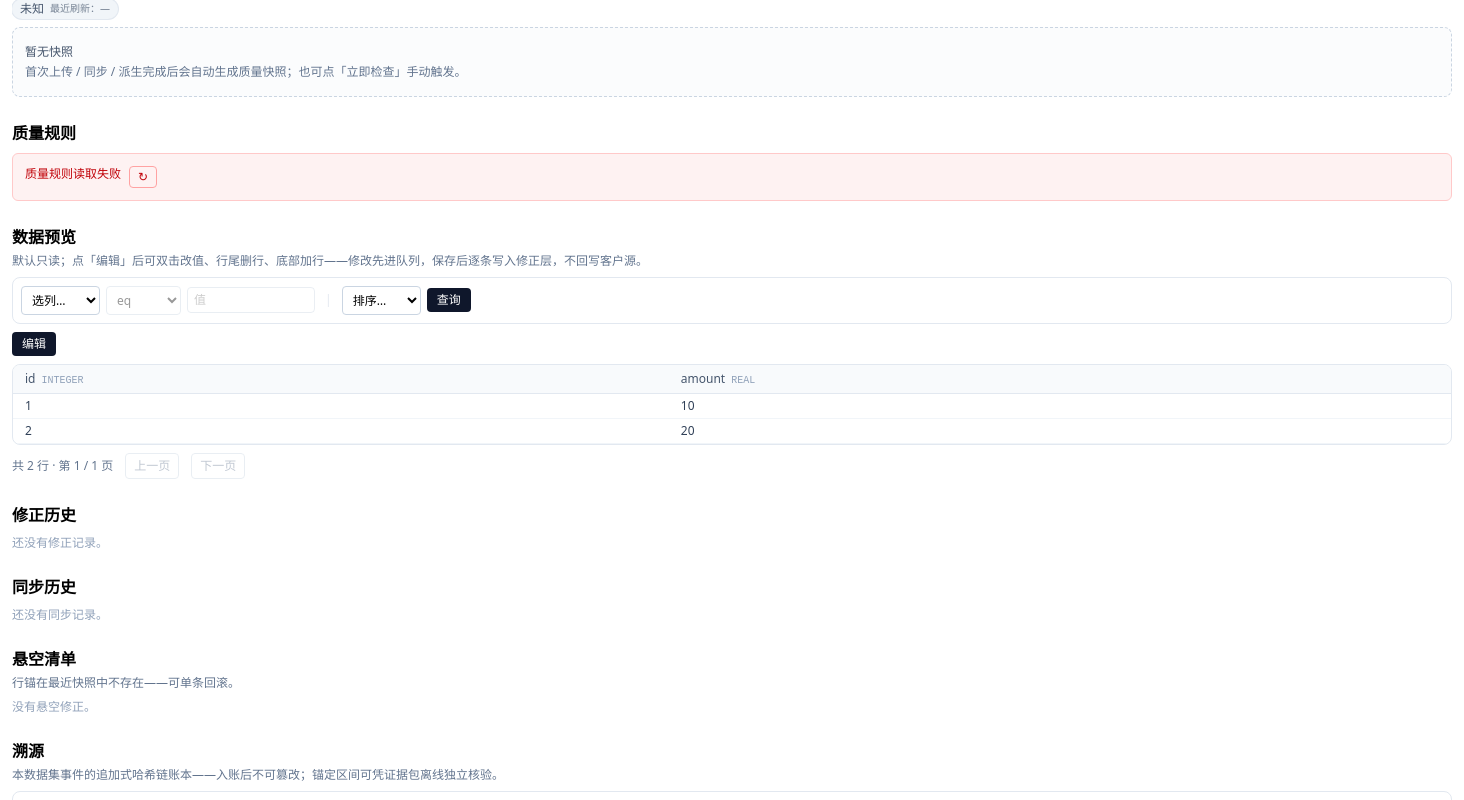
Scenario: DatasetDetail 行内编辑器：模式切换与只读默认（任务 2.1） › 默认只读：无删行/加行/脏徽标控件，双击不开编辑框；切换进编辑后控件出现
The image size is (1464, 800).
(page scrolled)
Check: the table with test id "preview-grid" is shown, box [13, 364, 1451, 444]
Check: the button with test id "preview-edit-toggle" reads "编辑", box [12, 332, 56, 356]
Double-click the cell with test id "preview-cell" showing "10" at (1060, 406), box [669, 393, 1451, 418]
// 切换进编辑：删行/加行出现，双击可开编辑框（Esc 取消）
Click the button with test id "preview-edit-toggle" at (34, 344), box [12, 332, 56, 356]
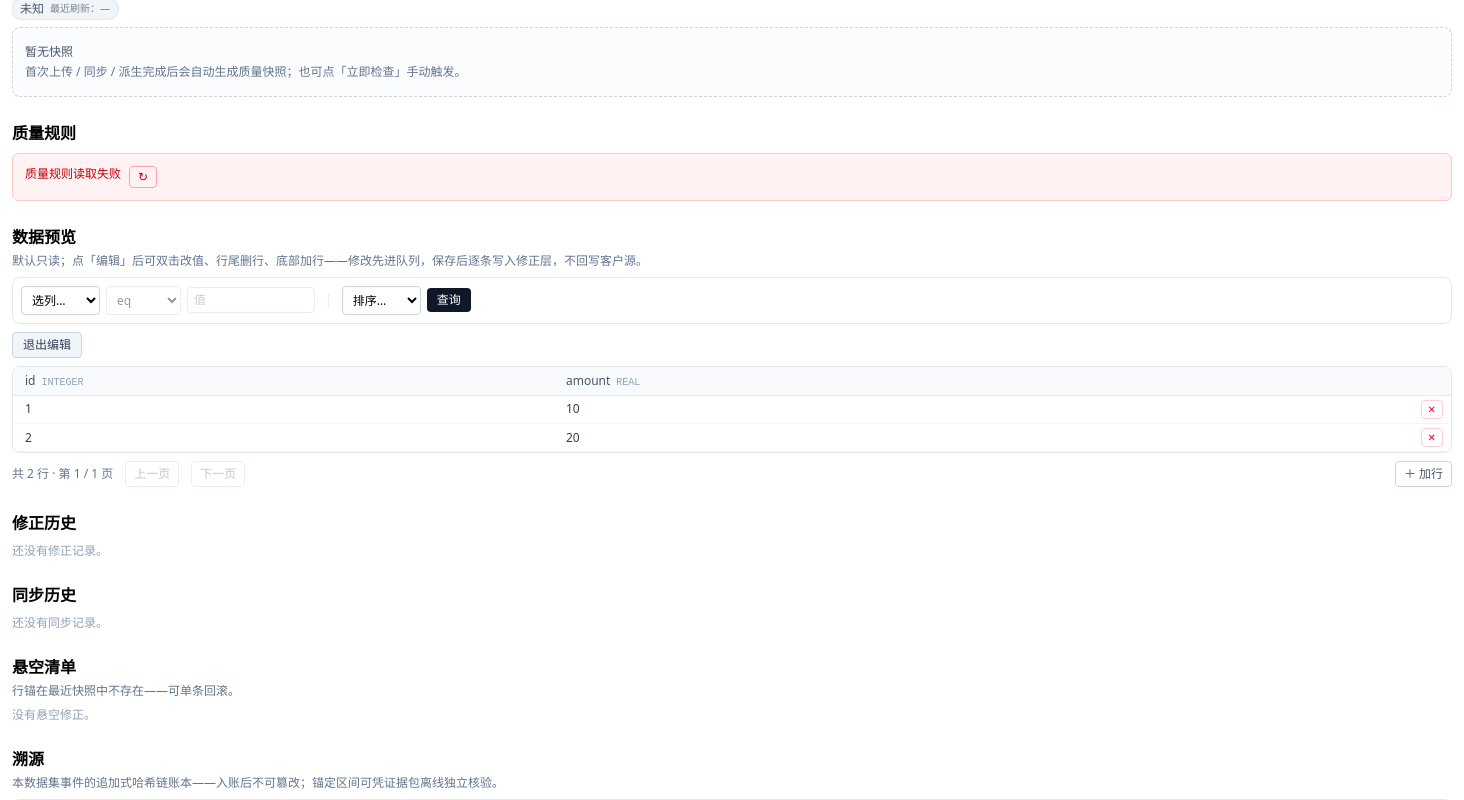
Check: the number of buttons with test id "preview-delete-row" is 2, box [1421, 400, 1443, 419]; [1421, 428, 1443, 448]
Check: the button with test id "preview-add-row" is shown, box [1395, 462, 1452, 488]
Double-click the cell with test id "preview-cell" showing "10" at (877, 409), box [554, 395, 1199, 424]
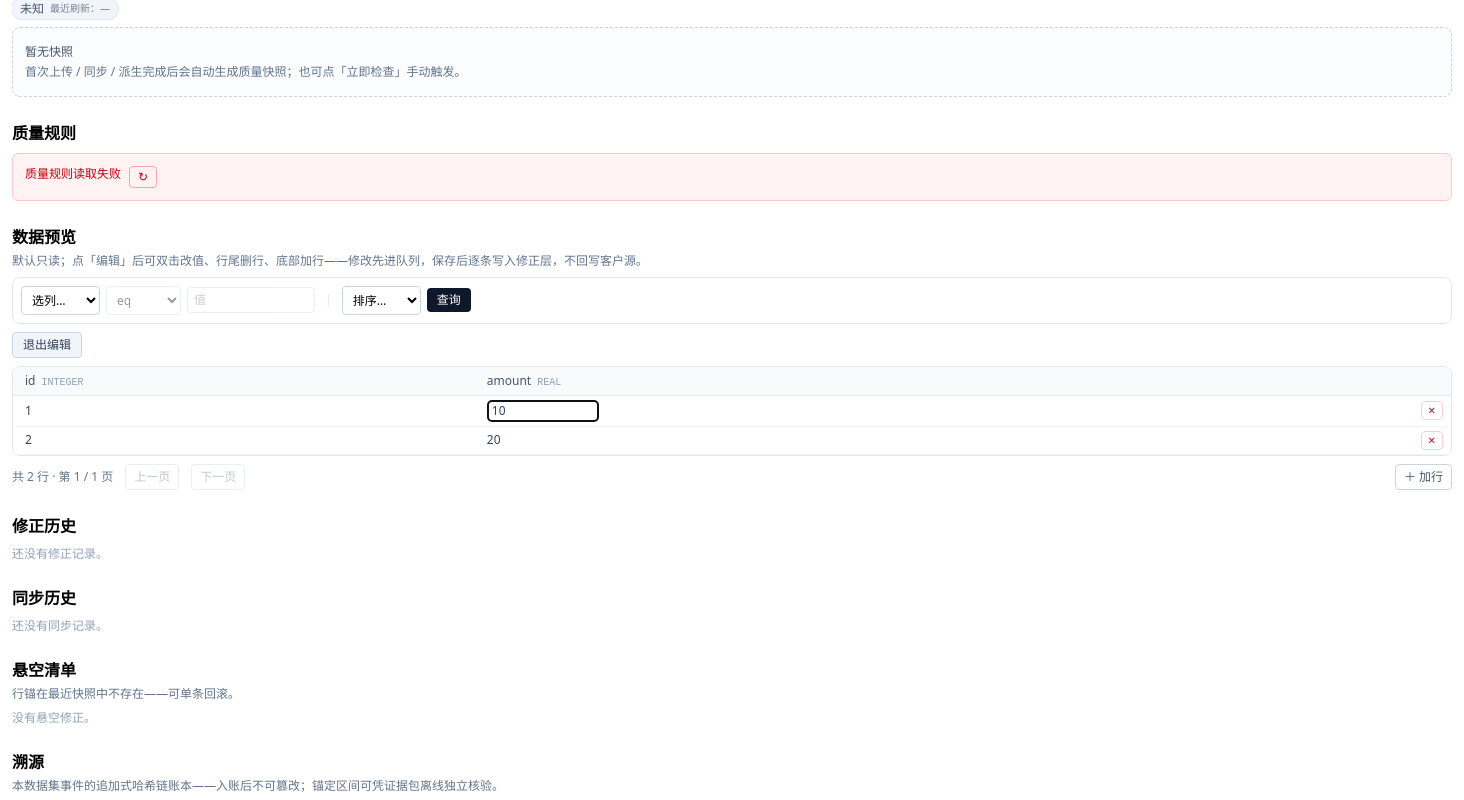
Check: the field with test id "preview-edit-input" holds "10"
Press Escape in the field with test id "preview-edit-input", box [487, 400, 599, 422]
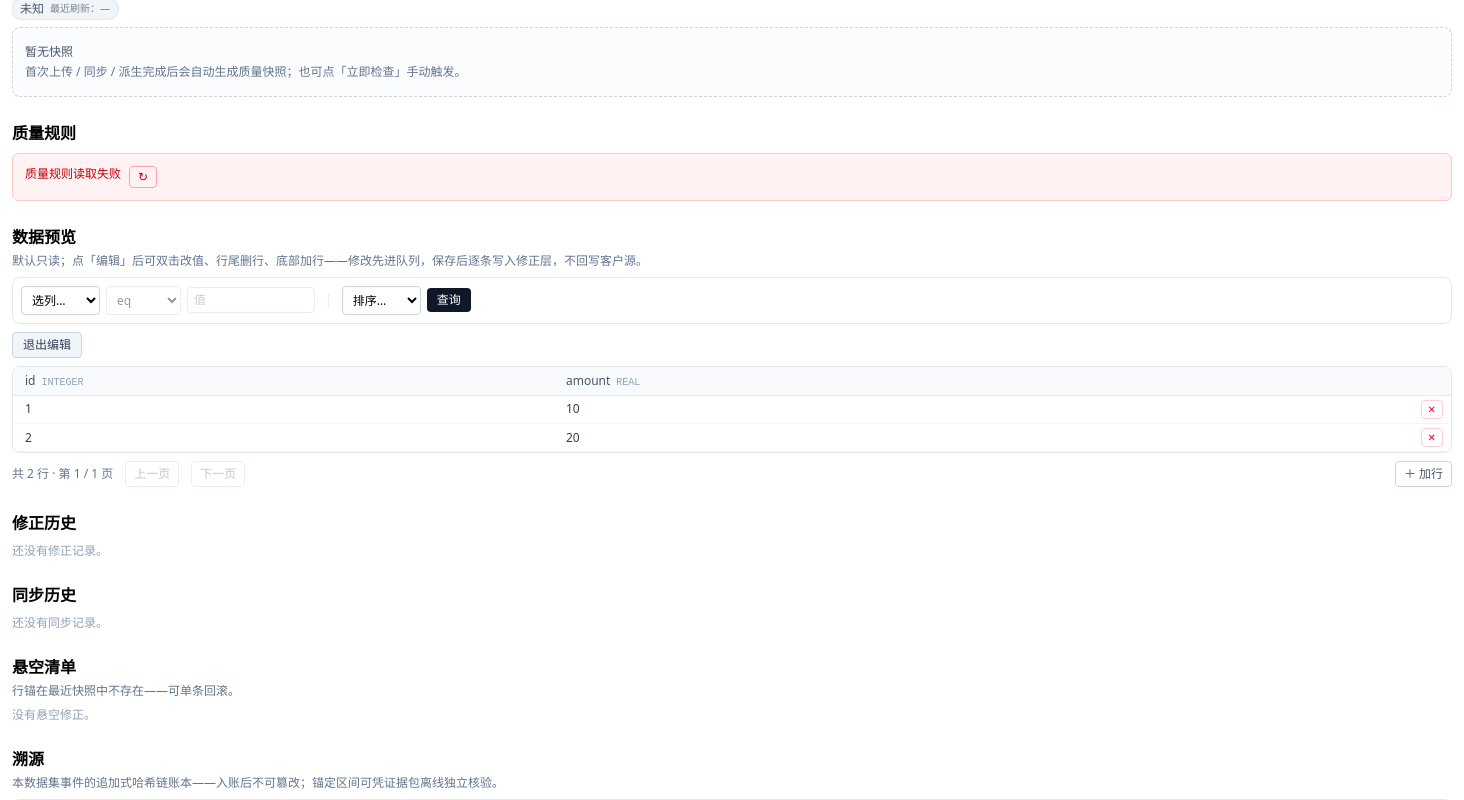
Check: the field with test id "preview-edit-input" is gone
